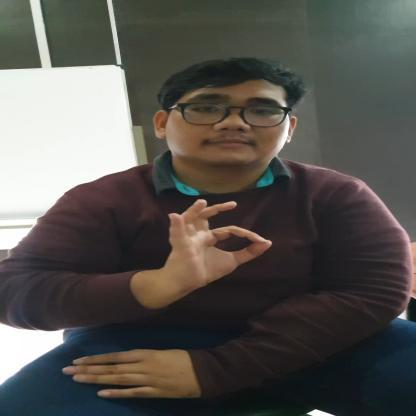O: (157, 197, 276, 287)
